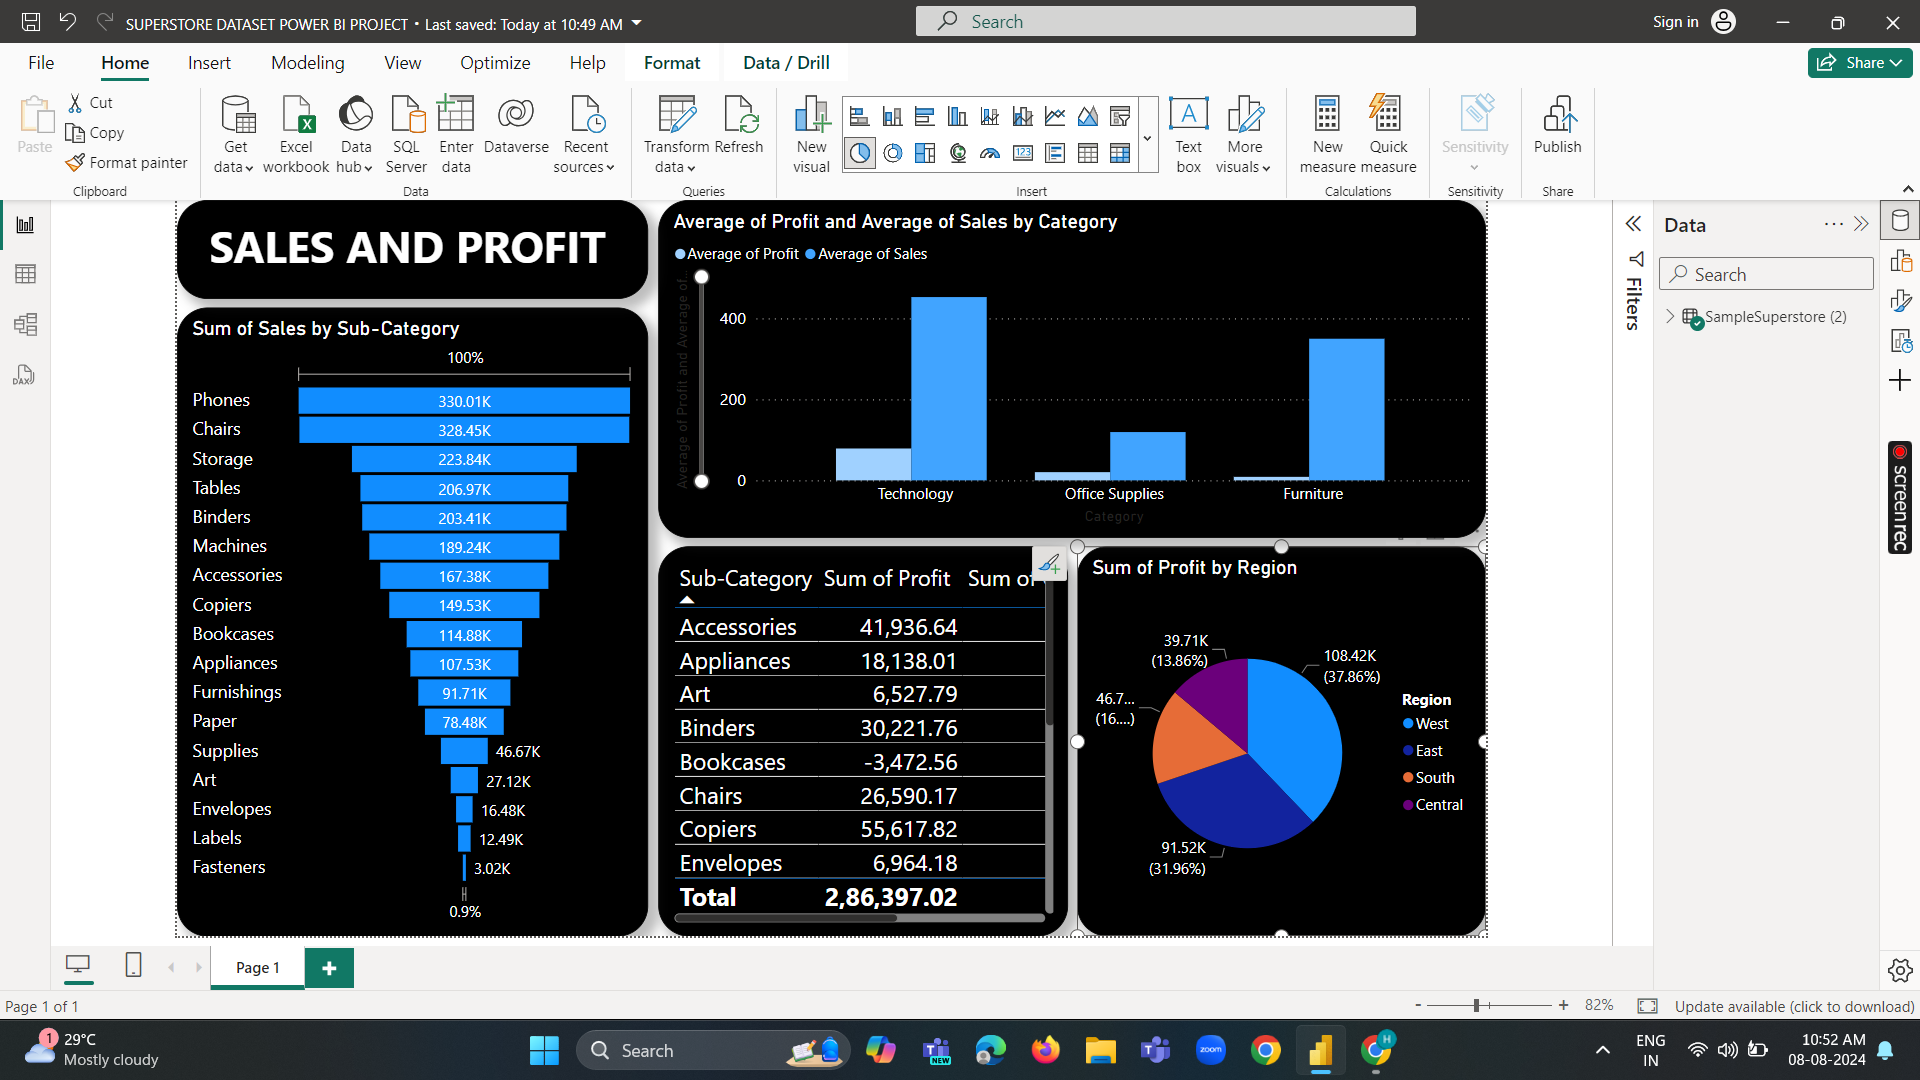

Layout of this report page (visuals, bound fields, positions):
{"tool":"powerbi","page":{"name":"Page 1","canvas":[1280,720],"ordinal":0},"visuals":[{"type":"tableEx","fields":{"Values":["SampleSuperstore (2).Sub-Category","Sum(SampleSuperstore (2).Profit)","Sum(SampleSuperstore (2).Quantity)","Sum(SampleSuperstore (2).Sales)"]},"box":[470.6,338.6,401,381.4],"z":0},{"type":"funnel","fields":{"Y":["Sum(SampleSuperstore (2).Sales)"],"Category":["SampleSuperstore (2).Sub-Category"]},"box":[0,105.1,460.8,614.9],"z":1000},{"type":"pieChart","fields":{"Y":["Sum(SampleSuperstore (2).Profit)"],"Category":["SampleSuperstore (2).Region"]},"box":[880,338.8,400,381.2],"z":2000},{"type":"clusteredColumnChart","fields":{"Category":["SampleSuperstore (2).Category"],"Y":["Avg(SampleSuperstore (2).Profit)","Avg(SampleSuperstore (2).Sales)"]},"box":[470.6,0,809.2,330.1],"z":3000},{"type":"textbox","box":[0,0,460.8,96.6],"z":4000}]}

Visuals, with their boxes on the page's 1280x720 design canvas (x1, y1, x2, y2). These are canvas units, not pixel positions in the 1920x1080 screenshot, which may show the page scaled, cropped or inside an application window:
tableEx - SampleSuperstore (2).Sub-Category x Sum(SampleSuperstore (2).Profit): (x1=471, y1=339, x2=872, y2=720)
funnel - Sum(SampleSuperstore (2).Sales) x SampleSuperstore (2).Sub-Category: (x1=0, y1=105, x2=461, y2=720)
pieChart - Sum(SampleSuperstore (2).Profit) x SampleSuperstore (2).Region: (x1=880, y1=339, x2=1280, y2=720)
clusteredColumnChart - SampleSuperstore (2).Category x Avg(SampleSuperstore (2).Profit): (x1=471, y1=0, x2=1280, y2=330)
textbox: (x1=0, y1=0, x2=461, y2=97)
